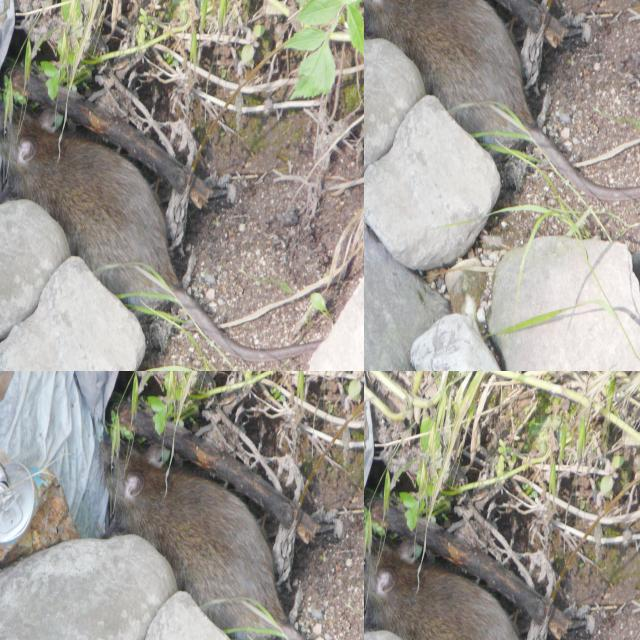rat: (364, 533, 537, 640)
